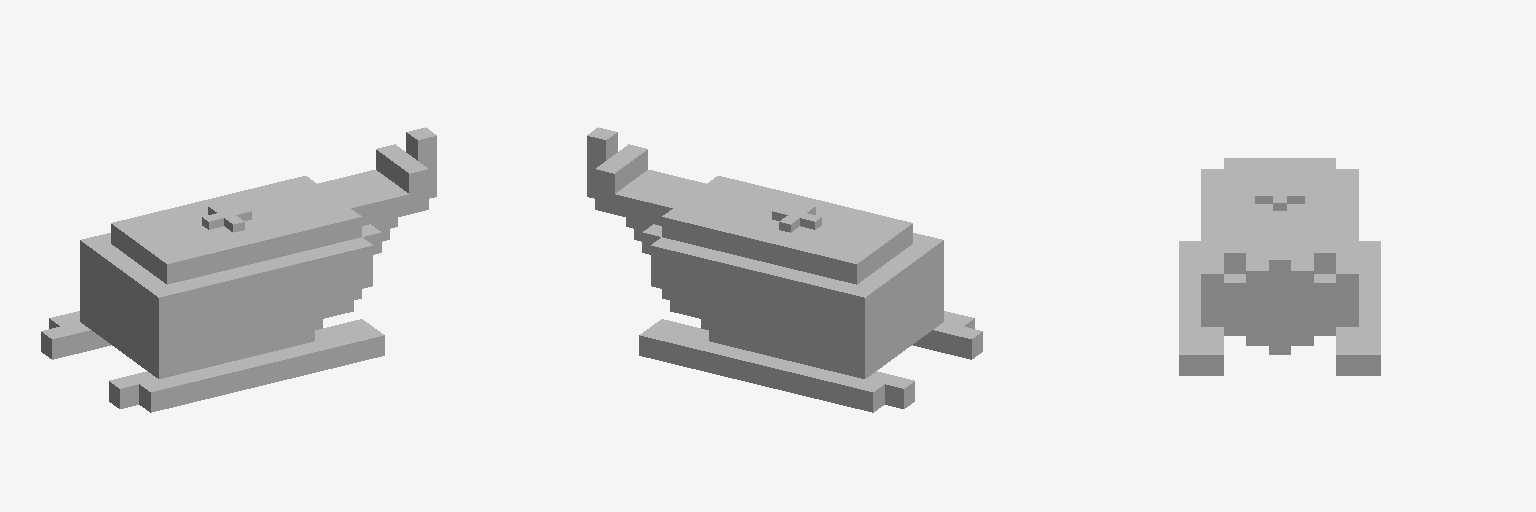
The model's file is helicopter.obj.
The picture shows the model from 3 angles: view 1: azimuth 30°, elevation 25°; view 2: azimuth 150°, elevation 25°; view 3: azimuth 270°, elevation 25°; orthographic projection.
Visible parts, largest first — view 1: object 1; view 2: object 1; view 3: object 1.
Boxes of the visible parts, box(x1,y1,x2,y2) form: object 1: box(41, 127, 436, 412); object 1: box(587, 127, 982, 412); object 1: box(1179, 158, 1380, 375).
Size of the model in its own units: 9 by 4 by 4.5.